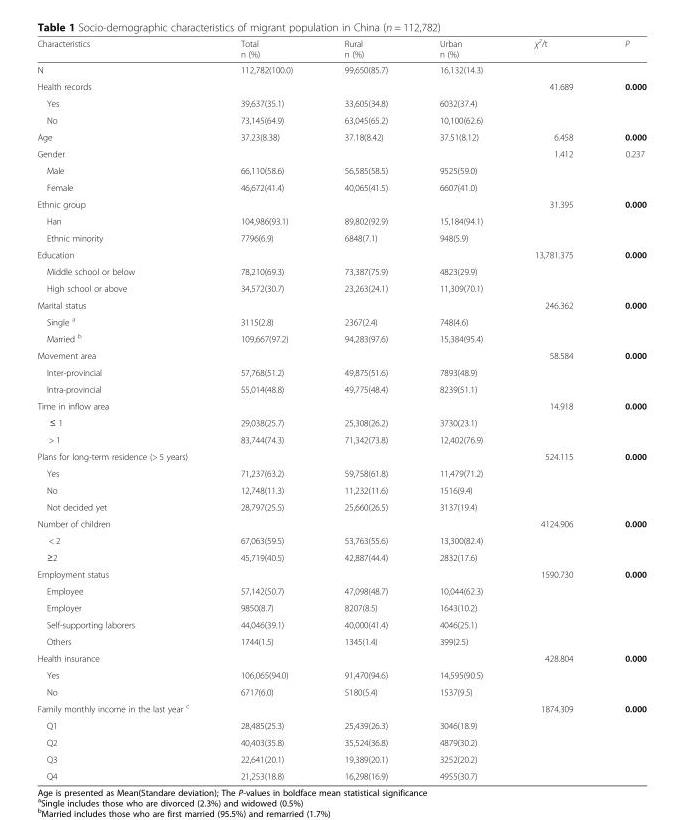table: (36, 36, 645, 780)
table column: (36, 36, 214, 780), (214, 36, 317, 780), (317, 36, 413, 780), (413, 36, 508, 780), (508, 36, 598, 780), (598, 36, 645, 780)
table column header: (36, 36, 645, 61)
table row: (36, 36, 645, 61), (36, 77, 645, 94), (36, 94, 645, 111), (36, 111, 645, 128), (36, 128, 645, 145), (36, 161, 645, 178), (36, 178, 645, 195), (36, 195, 645, 212), (36, 212, 645, 229), (36, 245, 645, 262), (36, 262, 645, 279), (36, 279, 645, 296), (36, 312, 645, 329), (36, 329, 645, 346), (36, 346, 645, 363), (36, 363, 645, 380), (36, 380, 645, 397), (36, 413, 645, 430), (36, 430, 645, 447), (36, 447, 645, 464), (36, 464, 645, 481), (36, 481, 645, 498), (36, 514, 645, 531), (36, 531, 645, 548), (36, 548, 645, 565), (36, 565, 645, 582), (36, 582, 645, 599), (36, 615, 645, 632), (36, 632, 645, 649), (36, 649, 645, 666), (36, 666, 645, 683), (36, 699, 645, 716), (36, 716, 645, 733), (36, 733, 645, 750), (36, 750, 645, 767), (36, 61, 645, 77), (36, 145, 645, 161), (36, 229, 645, 245), (36, 296, 645, 312), (36, 397, 645, 413), (36, 498, 645, 514), (36, 599, 645, 615), (36, 683, 645, 699), (36, 767, 645, 780)
